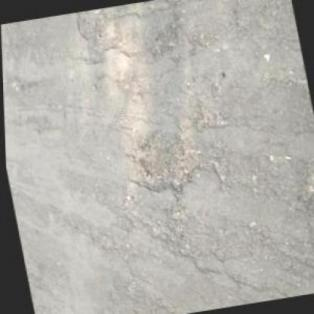Hueco: (122, 119, 203, 198), (288, 156, 313, 222)
